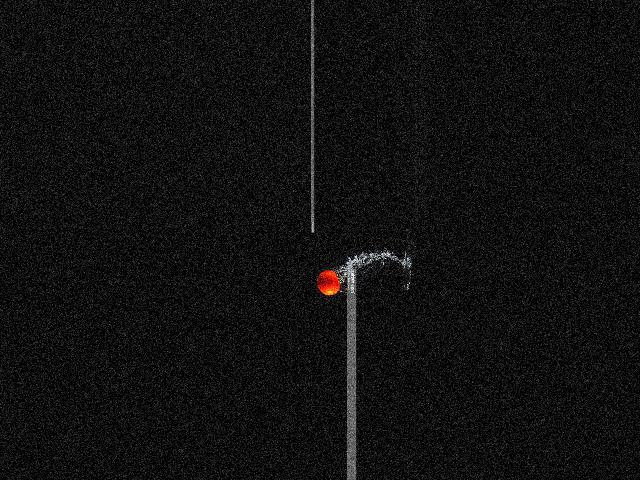tomato: (317, 270, 340, 295)
